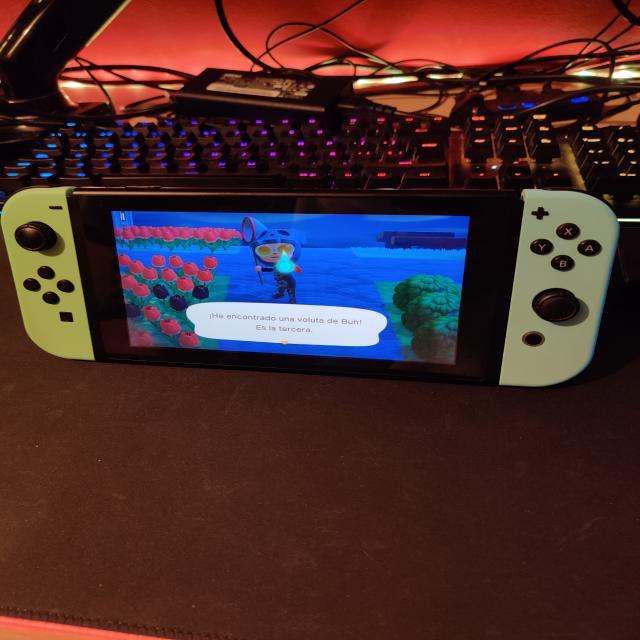text_bubble: (186, 301, 390, 348)
